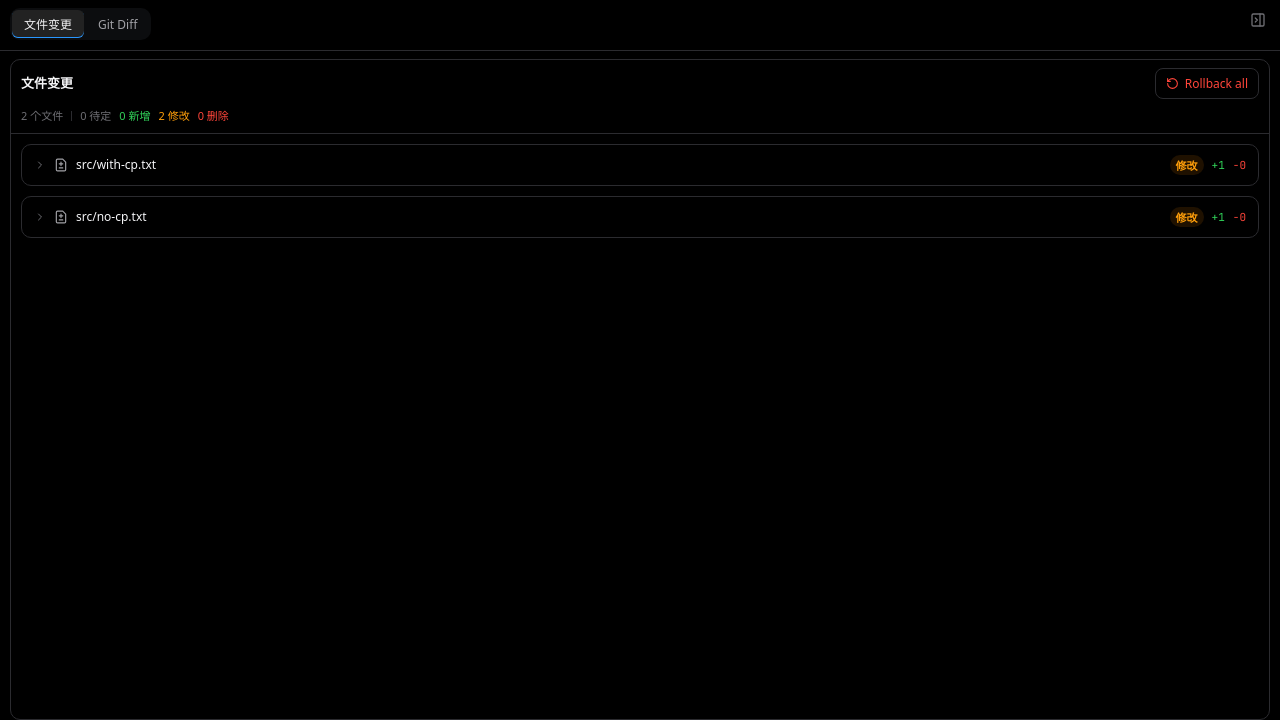
Test case: FileChangePanel › renders restore button per file change and disables it when rollback checkpoint is missing
The width and height of the screenshot is (1280, 720).
Step 1. Click the text "src/with-cp.txt" → click(116, 165), box [76,156,156,173]
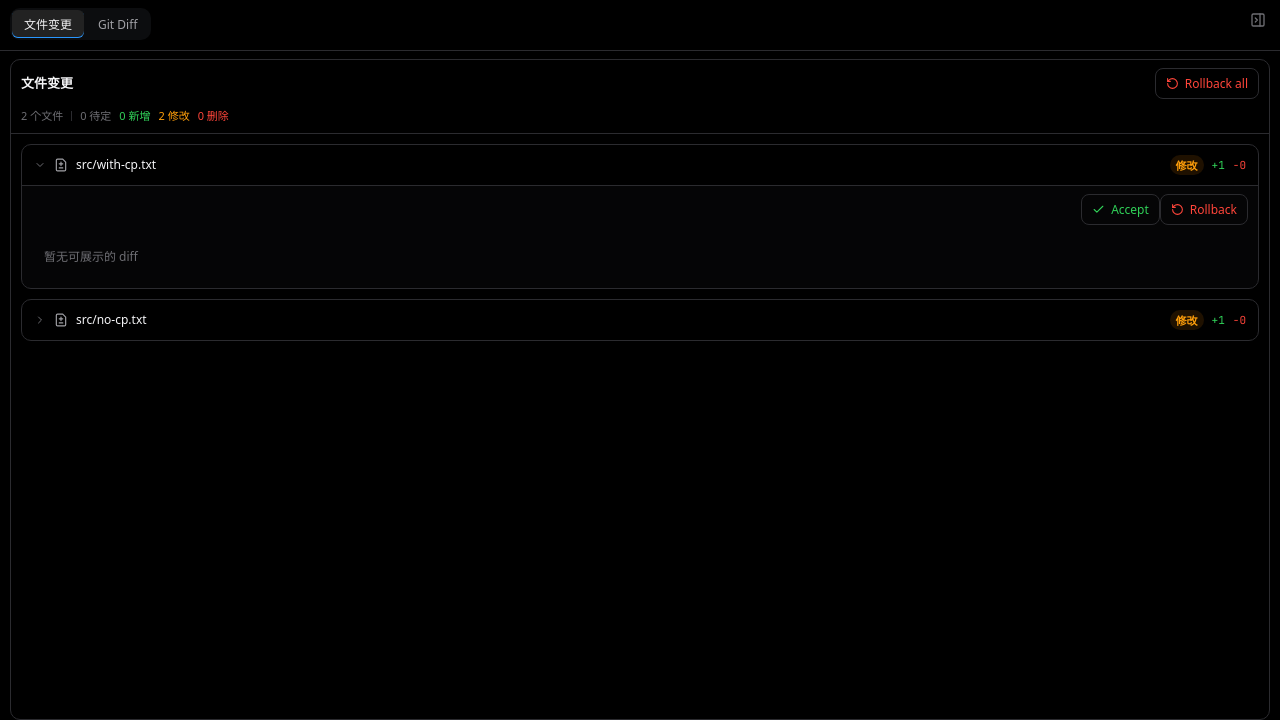
Step 2. Click the text "src/no-cp.txt" → click(111, 320), box [76,311,147,328]
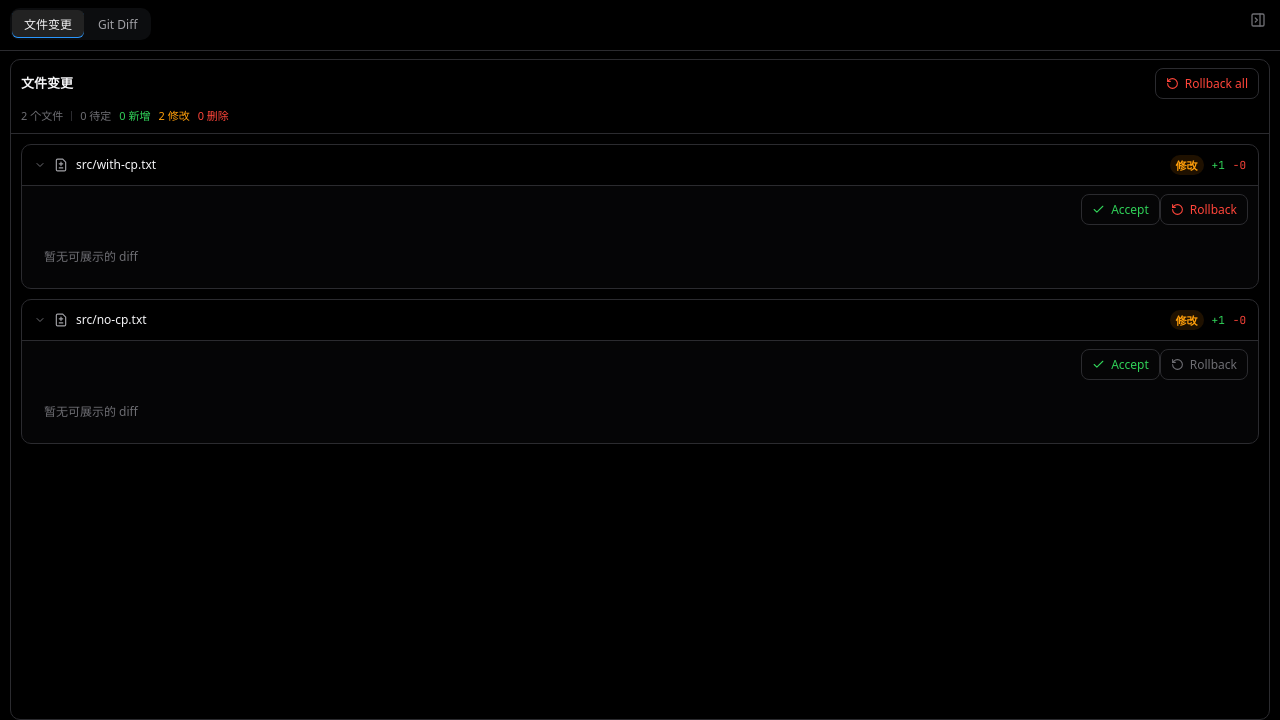
expect the button with test id "restore-change-fc-with-cp" is enabled: met, box [1160,194,1248,225]
expect the button with test id "restore-change-fc-without-cp" is disabled: met, box [1160,349,1248,380]
